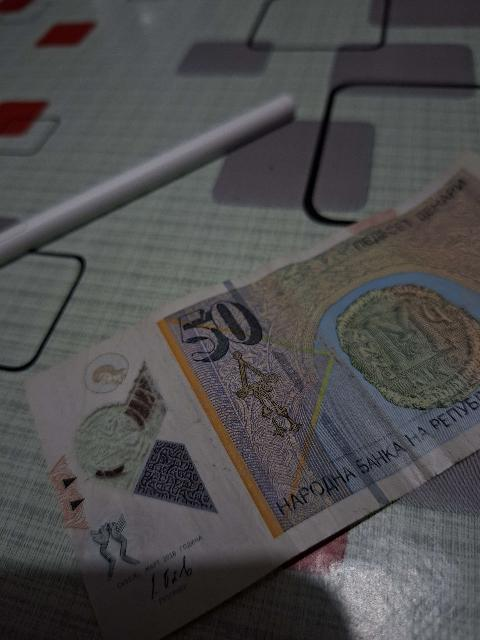50_note: (21, 152, 479, 639)
